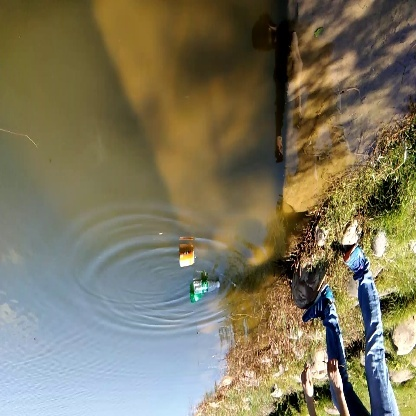bottle: (175, 245, 198, 271)
